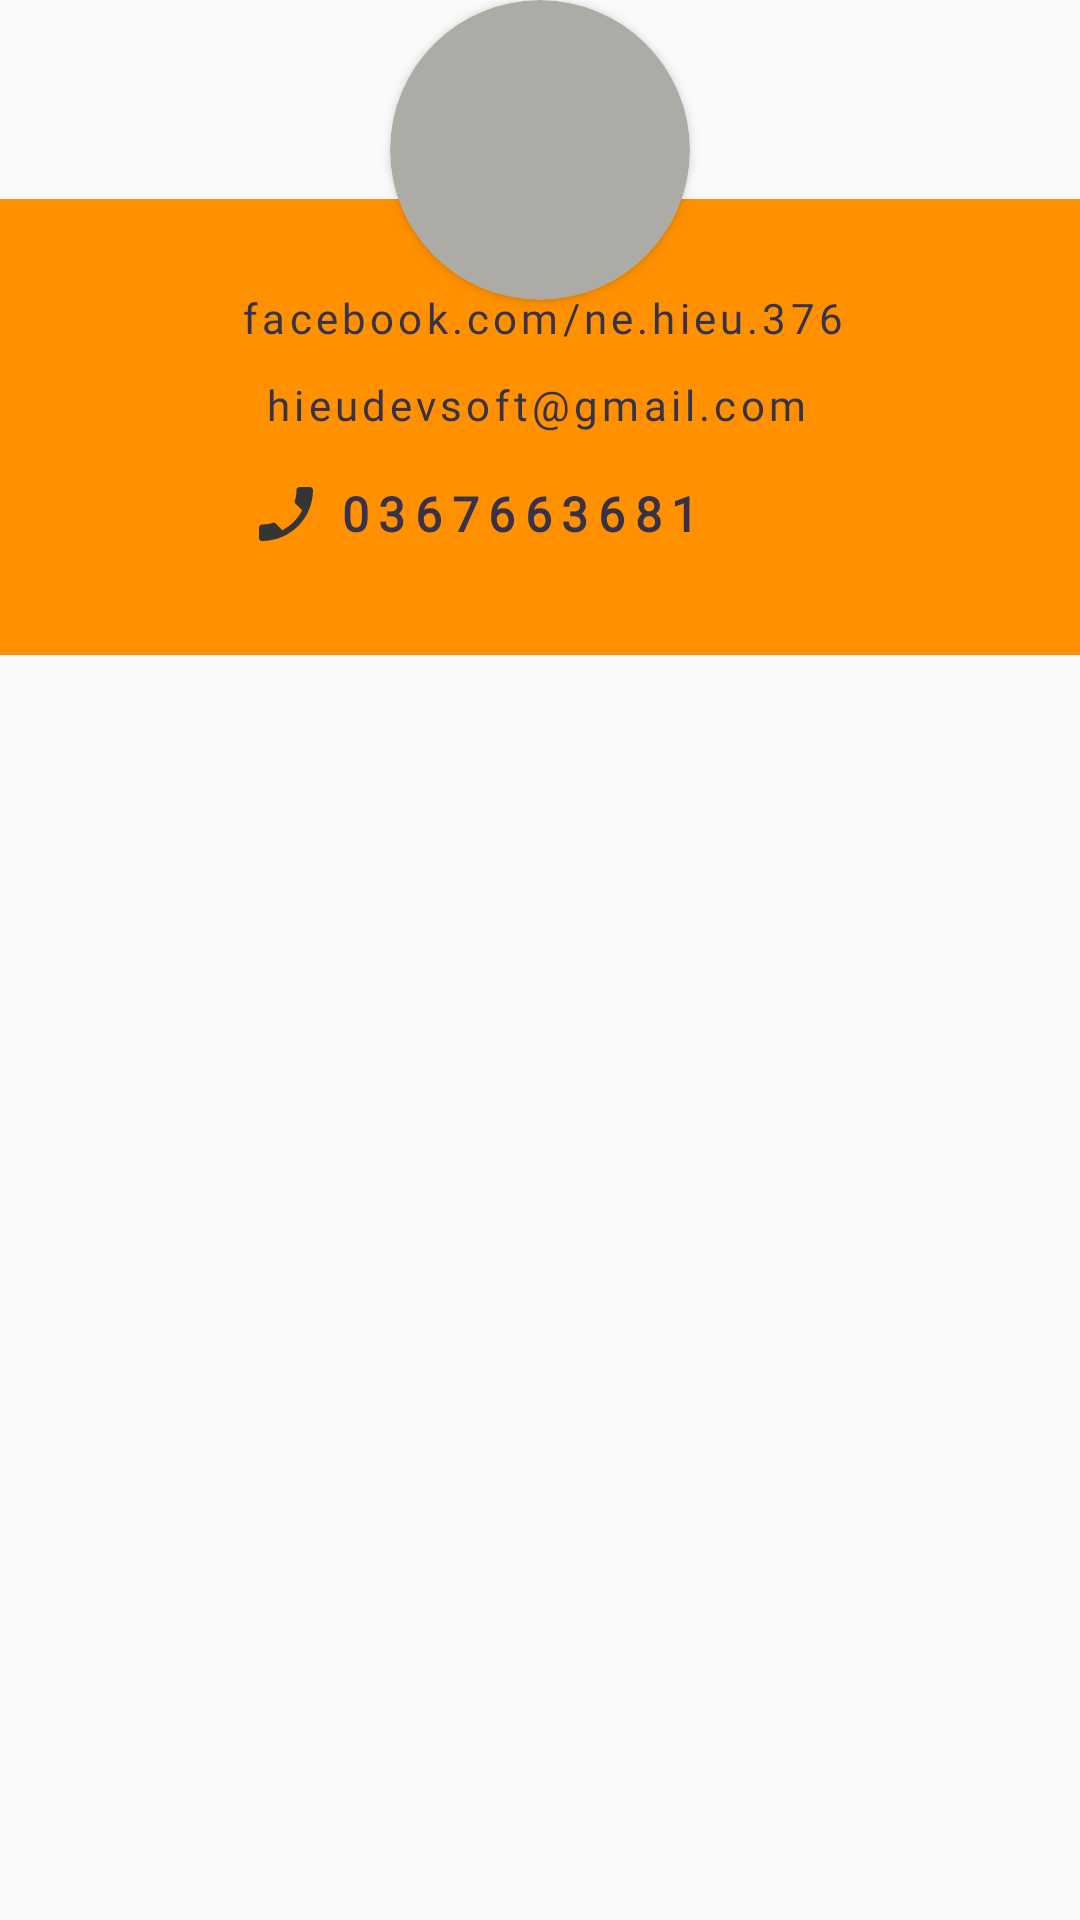

Screen size 1080w x 1920h. Icon name, then its center in pixels as (x=x, y=y):
phone: (x=286, y=514)
